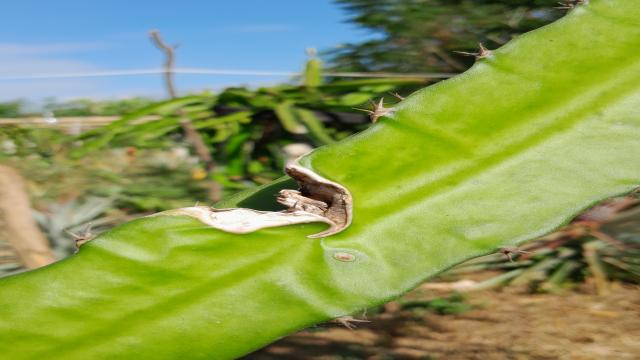stemcanker: (322, 244, 360, 264)
